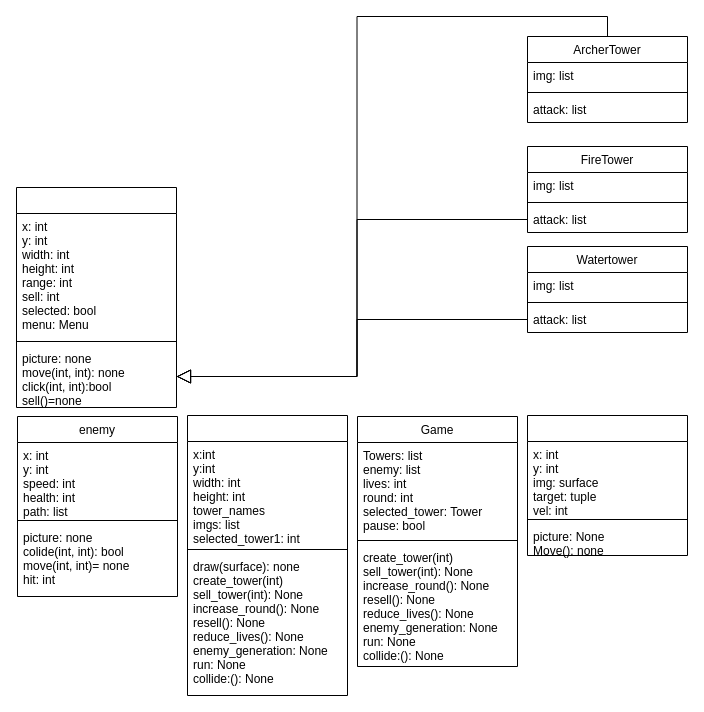
Some shapes in this 704 by 712 pixel diagram are drawn without their labels. Here are the shapes that lost their labels. From the top down, the box of each, then its label:
(16, 186, 176, 408): Tower
(526, 414, 688, 556): Projectile
(186, 414, 348, 696): Menu
